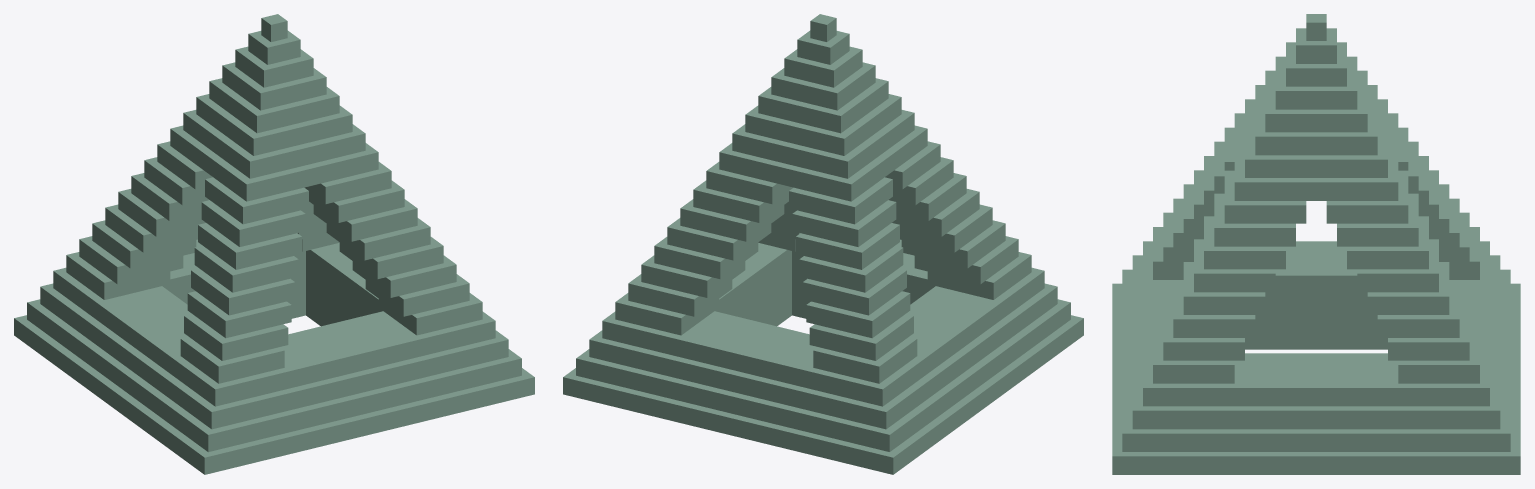
Rendered from crown-2-Zen_PyramidHollow_Counter.obj.
3 renders of one model, left to right at view 1: azimuth 30°, elevation 25°; view 2: azimuth 150°, elevation 25°; view 3: azimuth 270°, elevation 25°, orthographic. The views are drawn at different scales.
Parts seen in each view (by area): view 1: Zen_PyramidHollow_Counter; view 2: Zen_PyramidHollow_Counter; view 3: Zen_PyramidHollow_Counter.
Part boxes in pixels (bbox=[...]): Zen_PyramidHollow_Counter: bbox=[14, 14, 534, 474]; Zen_PyramidHollow_Counter: bbox=[563, 14, 1083, 474]; Zen_PyramidHollow_Counter: bbox=[1112, 14, 1520, 474].
Size of the model in its own units: 4 by 4 by 4.
Materials: 1 (1 with a texture image).
